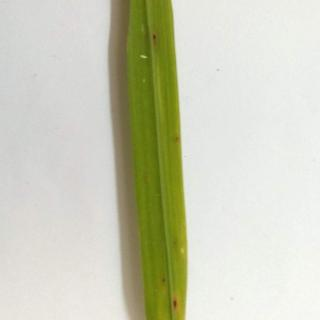bercak-Cokelat: (172, 128, 184, 156), (153, 30, 167, 49), (171, 236, 179, 255), (172, 294, 180, 311)
